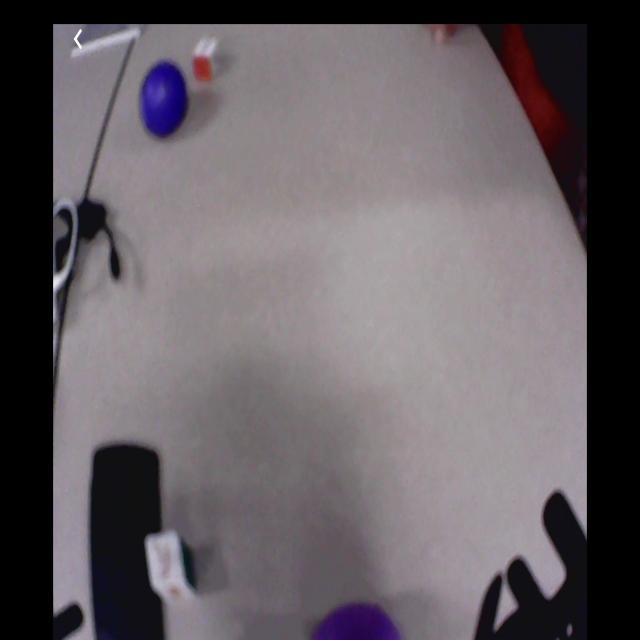ball: (140, 59, 189, 141), (302, 601, 403, 640)
